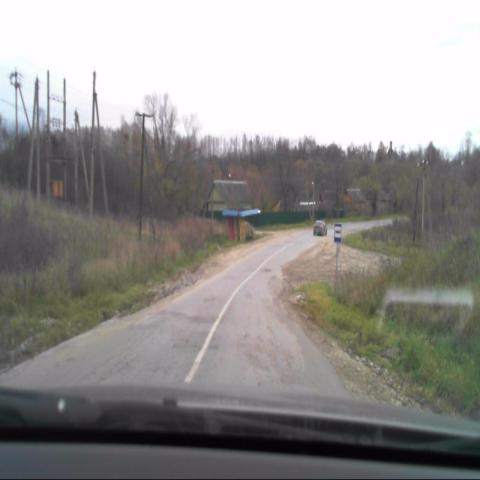5_16: (334, 222, 341, 243)
